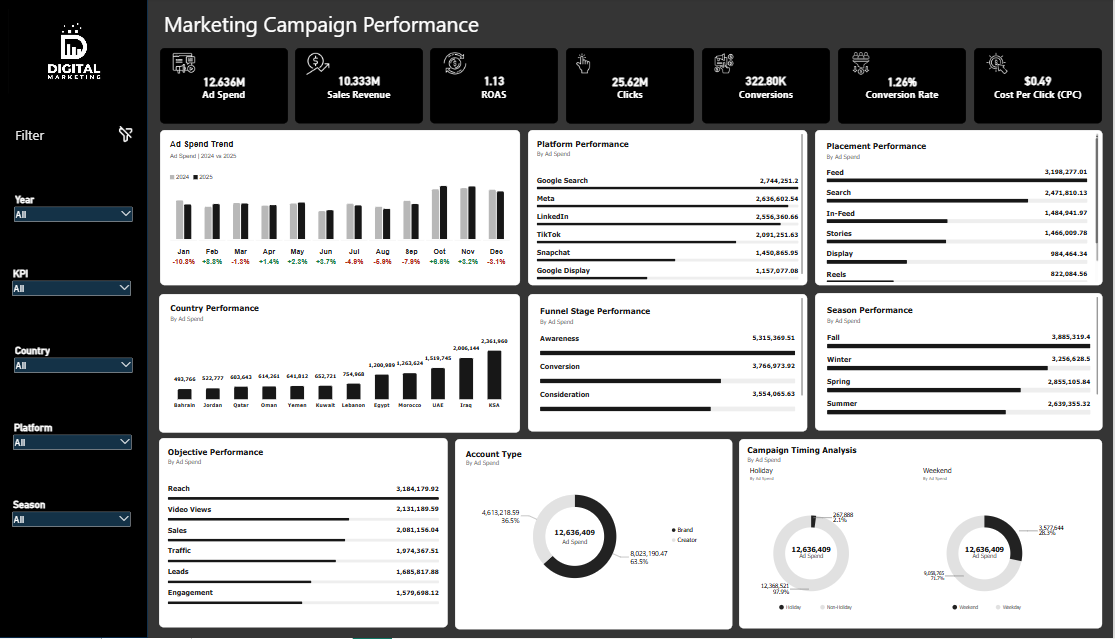

What the dashboard file says about the page in this screenshot:
{"tool":"powerbi","page":{"name":"Marketing Campaigns Analysis","canvas":[4700,2700],"ordinal":0},"visuals":[{"type":"shape","box":[0,0,627.2,2699.6],"z":0},{"type":"textbox","box":[677.6,47.8,1985.1,160.7],"z":1000},{"type":"htmlContent443BE3AD55E043BF878BED274D3A6865","fields":{"content":["_Measures.Monthly KPI HTML"]},"box":[678.5,558.6,1518.7,654.6],"z":2000},{"type":"slicer","fields":{"Values":["KPI Selector.KPI"]},"box":[50.6,1139.1,510.5,139.2],"z":3000},{"type":"htmlContent443BE3AD55E043BF878BED274D3A6865","fields":{"content":["_Measures.Platform KPI HTML"]},"box":[2232.1,558.6,1178.3,654.6],"z":4000},{"type":"htmlContent443BE3AD55E043BF878BED274D3A6865","fields":{"content":["_Measures.Country KPI HTML"]},"box":[674.1,1248.1,1523,584.8],"z":5000},{"type":"htmlContent443BE3AD55E043BF878BED274D3A6865","fields":{"content":["_Measures.Placement KPI HTML"]},"box":[3440.9,558.6,1213.2,654.6],"z":6000},{"type":"htmlContent443BE3AD55E043BF878BED274D3A6865","fields":{"content":["_Measures.Funnel Stage KPI HTML"]},"box":[2232.1,1248.1,1178.3,580.4],"z":7000},{"type":"htmlContent443BE3AD55E043BF878BED274D3A6865","fields":{"content":["_Measures.Objective KPI HTML"]},"box":[674.1,1854.7,1217.5,798.6],"z":8000},{"type":"htmlContent443BE3AD55E043BF878BED274D3A6865","fields":{"content":["_Measures.Account Type Donut HTML"]},"box":[1922.2,1859.1,1169.5,803],"z":9000},{"type":"htmlContent443BE3AD55E043BF878BED274D3A6865","fields":{"content":["_Measures.Season KPI HTML"]},"box":[3440.9,1243.7,1213.2,580.4],"z":10000},{"type":"htmlContent443BE3AD55E043BF878BED274D3A6865","fields":{"content":["_Measures.Holiday Weekend Donuts HTML"]},"box":[3122.3,1859.1,1531.8,798.6],"z":11000},{"type":"advanceCardE03760C5AB684758B56AA29F9E6C257B","fields":{"mainMeasure":["_Measures.Total Spend"]},"box":[678.5,209.5,540,318.6],"z":12000},{"type":"advanceCardE03760C5AB684758B56AA29F9E6C257B","fields":{"mainMeasure":["_Measures.Conversion Rate"]},"box":[3541.3,209.5,540,318.6],"z":13000},{"type":"advanceCardE03760C5AB684758B56AA29F9E6C257B","fields":{"mainMeasure":["_Measures.Cost Per Click (CPC)"]},"box":[4113,209.5,540,318],"z":14000},{"type":"advanceCardE03760C5AB684758B56AA29F9E6C257B","fields":{"mainMeasure":["_Measures.Total Clicks"]},"box":[2393.6,209.5,540,318.6],"z":15000},{"type":"advanceCardE03760C5AB684758B56AA29F9E6C257B","fields":{"mainMeasure":["_Measures.Total Conversion"]},"box":[2965.2,209.5,540,318],"z":16000},{"type":"advanceCardE03760C5AB684758B56AA29F9E6C257B","fields":{"mainMeasure":["_Measures.Sales Revenue"]},"box":[1250.2,209.5,540,318],"z":17000},{"type":"advanceCardE03760C5AB684758B56AA29F9E6C257B","fields":{"mainMeasure":["_Measures.ROAS"]},"box":[1817.5,209.5,540,318],"z":18000},{"type":"image","box":[466.2,538.2,131.4,76.3],"z":19000},{"type":"textbox","box":[59.3,538.2,339,76.3],"z":20000},{"type":"slicer","fields":{"Values":["Digital_Marketing_Dataset.Year"]},"box":[59.3,826.4,508.6,144.1],"z":21000},{"type":"slicer","fields":{"Values":["Digital_Marketing_Dataset.Country"]},"box":[59.1,1463.9,508.6,144.1],"z":22000},{"type":"slicer","fields":{"Values":["Digital_Marketing_Dataset.Platform"]},"box":[54.8,1788.8,508.6,144.1],"z":23000},{"type":"slicer","fields":{"Values":["Digital_Marketing_Dataset.Season"]},"box":[50.6,2113.6,508.6,144.1],"z":24000},{"type":"image","box":[38.1,46.6,559.4,356],"z":25000},{"type":"image","box":[716.7,225.9,126,95.6],"z":26000},{"type":"image","box":[1281.4,225.9,126,95.6],"z":27000},{"type":"image","box":[1859.1,225.9,126,95.6],"z":28000},{"type":"image","box":[2393.4,225.9,165.1,95.6],"z":29000},{"type":"image","box":[2997.2,225.9,126,95.6],"z":30000},{"type":"image","box":[3575,225.9,126,95.6],"z":31000},{"type":"image","box":[4148.3,225.9,126,95.6],"z":31001}]}

Visuals, with their boxes in screenshot pixels (x1, y1, x2, y2), scaled from the page's 4700x2700 canvas onto the 1115x639 screenshot:
shape: select_region(0, 0, 149, 638)
textbox: select_region(161, 11, 632, 49)
htmlContent443BE3AD55E043BF878BED274D3A6865 - _Measures.Monthly KPI HTML: select_region(161, 132, 521, 287)
slicer - KPI Selector.KPI: select_region(12, 270, 133, 303)
htmlContent443BE3AD55E043BF878BED274D3A6865 - _Measures.Platform KPI HTML: select_region(530, 132, 809, 287)
htmlContent443BE3AD55E043BF878BED274D3A6865 - _Measures.Country KPI HTML: select_region(160, 295, 521, 434)
htmlContent443BE3AD55E043BF878BED274D3A6865 - _Measures.Placement KPI HTML: select_region(816, 132, 1104, 287)
htmlContent443BE3AD55E043BF878BED274D3A6865 - _Measures.Funnel Stage KPI HTML: select_region(530, 295, 809, 433)
htmlContent443BE3AD55E043BF878BED274D3A6865 - _Measures.Objective KPI HTML: select_region(160, 439, 449, 628)
htmlContent443BE3AD55E043BF878BED274D3A6865 - _Measures.Account Type Donut HTML: select_region(456, 440, 733, 630)
htmlContent443BE3AD55E043BF878BED274D3A6865 - _Measures.Season KPI HTML: select_region(816, 294, 1104, 432)
htmlContent443BE3AD55E043BF878BED274D3A6865 - _Measures.Holiday Weekend Donuts HTML: select_region(741, 440, 1104, 629)
advanceCardE03760C5AB684758B56AA29F9E6C257B - _Measures.Total Spend: select_region(161, 50, 289, 125)
advanceCardE03760C5AB684758B56AA29F9E6C257B - _Measures.Conversion Rate: select_region(840, 50, 968, 125)
advanceCardE03760C5AB684758B56AA29F9E6C257B - _Measures.Cost Per Click (CPC): select_region(976, 50, 1104, 125)
advanceCardE03760C5AB684758B56AA29F9E6C257B - _Measures.Total Clicks: select_region(568, 50, 696, 125)
advanceCardE03760C5AB684758B56AA29F9E6C257B - _Measures.Total Conversion: select_region(703, 50, 832, 125)
advanceCardE03760C5AB684758B56AA29F9E6C257B - _Measures.Sales Revenue: select_region(297, 50, 425, 125)
advanceCardE03760C5AB684758B56AA29F9E6C257B - _Measures.ROAS: select_region(431, 50, 559, 125)
image: select_region(111, 127, 142, 145)
textbox: select_region(14, 127, 94, 145)
slicer - Digital_Marketing_Dataset.Year: select_region(14, 196, 135, 230)
slicer - Digital_Marketing_Dataset.Country: select_region(14, 346, 135, 381)
slicer - Digital_Marketing_Dataset.Platform: select_region(13, 423, 134, 457)
slicer - Digital_Marketing_Dataset.Season: select_region(12, 500, 133, 534)
image: select_region(9, 11, 142, 95)
image: select_region(170, 53, 200, 76)
image: select_region(304, 53, 334, 76)
image: select_region(441, 53, 471, 76)
image: select_region(568, 53, 607, 76)
image: select_region(711, 53, 741, 76)
image: select_region(848, 53, 878, 76)
image: select_region(984, 53, 1014, 76)
